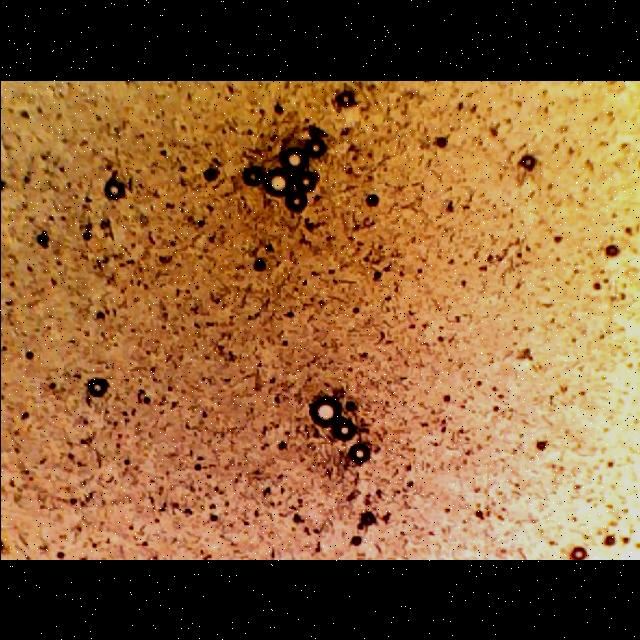microbeads: (300, 387, 346, 431), (330, 419, 360, 445), (344, 441, 370, 467)
